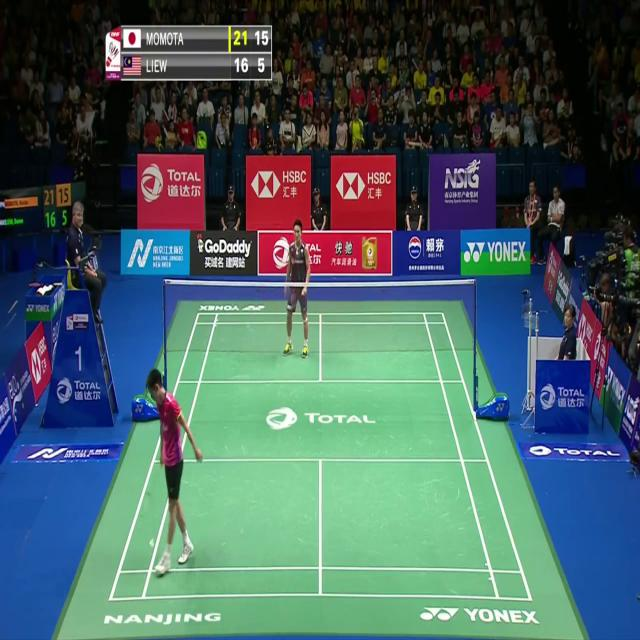Shuttlecock: (148, 538, 155, 550)
